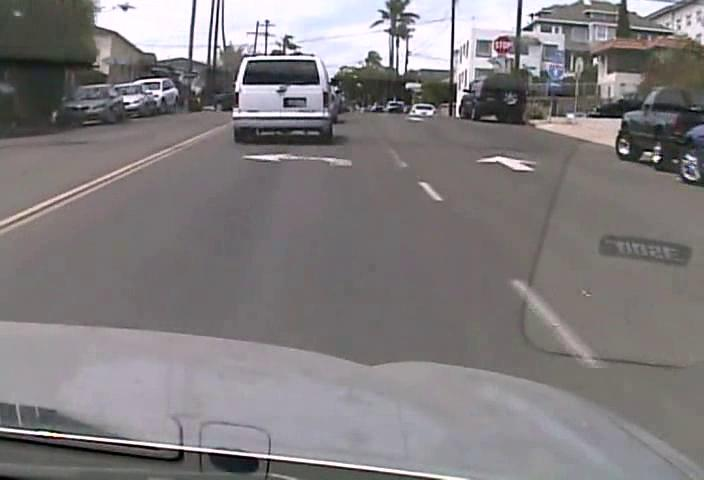stop: (493, 35, 513, 54)
